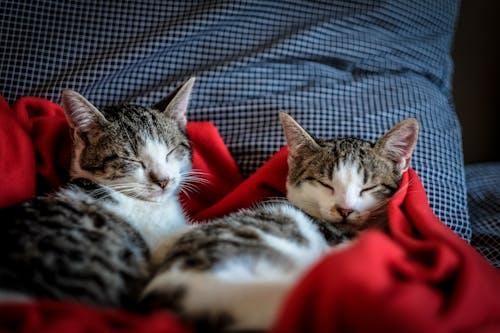kedo: (132, 111, 420, 332), (1, 76, 195, 308)
